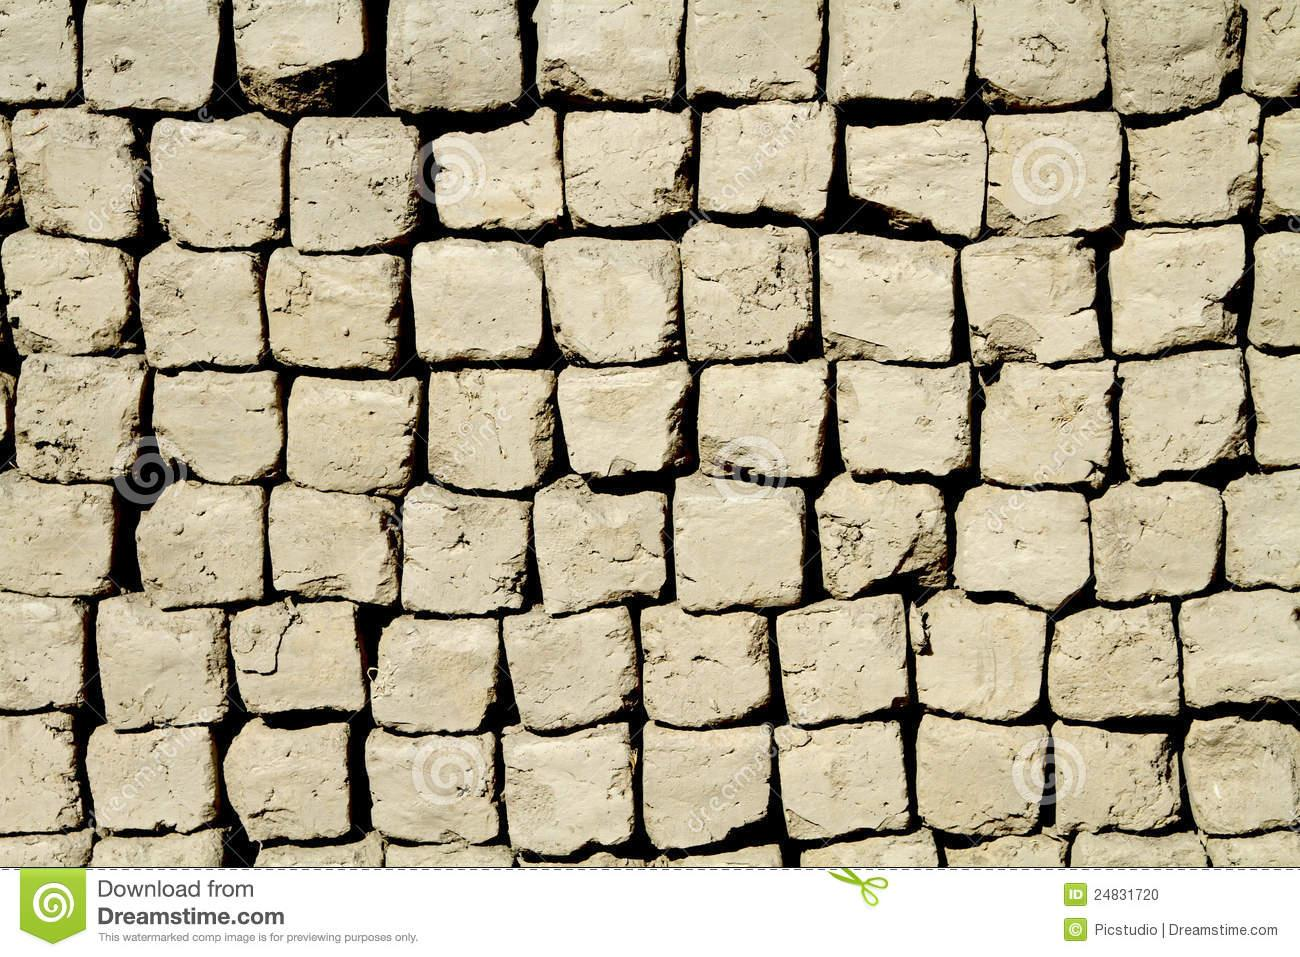brick: (533, 474, 666, 614), (151, 112, 289, 246), (681, 219, 811, 360), (96, 593, 228, 729), (1110, 224, 1245, 353), (821, 231, 956, 360), (265, 247, 406, 371), (15, 353, 147, 485), (1116, 348, 1245, 481), (291, 117, 419, 250), (543, 236, 678, 362), (916, 590, 1046, 720), (1129, 93, 1261, 221), (13, 108, 140, 240), (979, 360, 1115, 484), (961, 248, 1102, 366), (847, 119, 986, 238), (777, 594, 908, 720), (411, 237, 543, 362), (505, 607, 637, 732), (136, 481, 264, 608), (917, 713, 1049, 837), (698, 100, 836, 218), (987, 113, 1119, 235), (957, 486, 1089, 608), (433, 106, 563, 229), (817, 473, 945, 598), (504, 731, 632, 855), (1092, 480, 1223, 601), (288, 377, 420, 497), (269, 483, 399, 605), (403, 493, 532, 615), (643, 722, 768, 847), (1048, 603, 1179, 722), (365, 727, 499, 844), (223, 717, 350, 839), (564, 107, 692, 228), (2, 236, 132, 355), (697, 358, 828, 477), (533, 0, 682, 103), (776, 722, 907, 839), (558, 361, 691, 476), (429, 369, 554, 492), (641, 607, 769, 726), (838, 359, 970, 473), (387, 0, 521, 112), (371, 615, 499, 733), (1107, 0, 1239, 113), (84, 0, 219, 110), (673, 496, 802, 611), (231, 602, 364, 713), (827, 1, 974, 100), (152, 371, 282, 484), (233, 0, 362, 112), (139, 251, 263, 367), (1180, 589, 1300, 708), (0, 470, 114, 596), (1051, 722, 1180, 832), (87, 724, 216, 832), (1183, 716, 1300, 834), (977, 1, 1108, 105), (686, 0, 822, 100), (0, 712, 82, 834), (1, 593, 85, 711), (1227, 469, 1300, 589), (0, 0, 75, 103)
